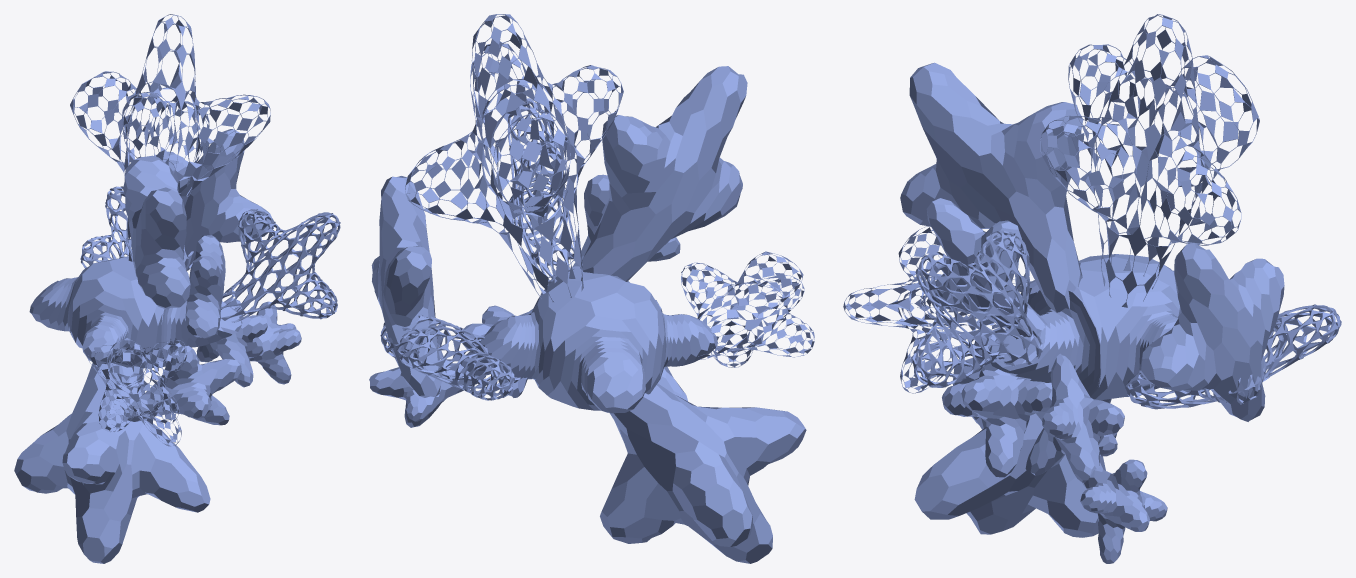
Rendered from corail 2.glb.
3 views of the same model, side by side, from view 1: azimuth 30°, elevation 25°; view 2: azimuth 150°, elevation 25°; view 3: azimuth 270°, elevation 25° (orthographic). The views are drawn at different scales.
Visible parts, largest first — view 1: DualMesh.011, DualMesh.005, DualMesh.001, DualMesh.004, DualMesh.007, DualMesh.008, DualMesh.010, DualMesh.012, DualMesh.003, DualMesh.014, DualMesh.013, DualMesh.009; view 2: DualMesh.011, DualMesh.005, DualMesh.004, DualMesh.001, DualMesh.008, DualMesh.010, DualMesh.009, DualMesh.007, DualMesh.013, DualMesh.003, DualMesh.014; view 3: DualMesh.004, DualMesh.001, DualMesh.008, DualMesh.005, DualMesh.011, DualMesh.007, DualMesh.014, DualMesh.012, DualMesh.003, DualMesh.009, DualMesh.013, DualMesh.010.
Boxes of the visible parts, box(x1,y1,x2,y2) form: DualMesh.011: box(14, 363, 210, 563); DualMesh.005: box(29, 256, 242, 368); DualMesh.001: box(70, 14, 270, 261); DualMesh.004: box(123, 155, 190, 309); DualMesh.007: box(221, 209, 340, 322); DualMesh.008: box(156, 129, 274, 267); DualMesh.010: box(87, 338, 187, 446); DualMesh.012: box(124, 345, 241, 425); DualMesh.003: box(185, 235, 225, 338); DualMesh.014: box(196, 298, 267, 387); DualMesh.013: box(248, 301, 301, 384); DualMesh.009: box(80, 186, 193, 271); DualMesh.011: box(600, 383, 806, 563); DualMesh.005: box(476, 266, 717, 413); DualMesh.004: box(579, 66, 747, 281); DualMesh.001: box(405, 14, 623, 302); DualMesh.008: box(371, 176, 442, 397); DualMesh.010: box(681, 251, 814, 367); DualMesh.009: box(380, 315, 522, 400); DualMesh.007: box(507, 98, 575, 285); DualMesh.013: box(369, 363, 485, 427); DualMesh.003: box(572, 174, 680, 267); DualMesh.014: box(460, 305, 533, 397); DualMesh.004: box(900, 62, 1083, 312); DualMesh.001: box(1040, 14, 1259, 307); DualMesh.008: box(1139, 243, 1284, 421); DualMesh.005: box(989, 254, 1179, 400); DualMesh.011: box(914, 357, 1116, 537); DualMesh.007: box(912, 230, 1042, 387); DualMesh.014: box(1025, 353, 1124, 482); DualMesh.012: box(942, 334, 1052, 477); DualMesh.003: box(926, 198, 1047, 337); DualMesh.009: box(1125, 304, 1341, 409); DualMesh.013: box(1080, 459, 1167, 563); DualMesh.010: box(843, 226, 1031, 393).
Size of the model in its own units: 6.43 by 9.6 by 7.2.
